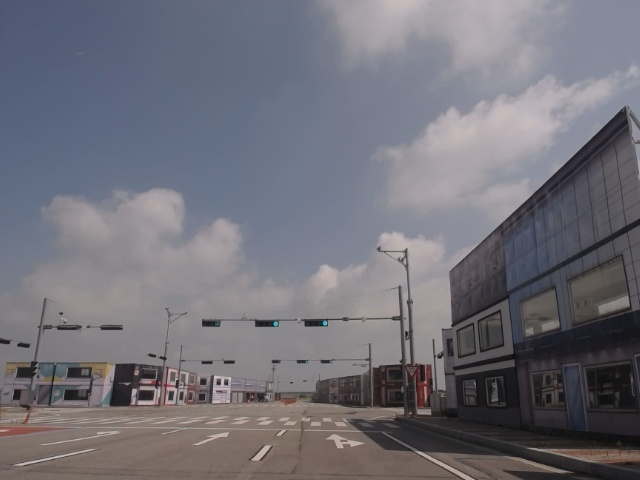straight_green_4: (253, 319, 280, 327), (305, 320, 330, 327)
